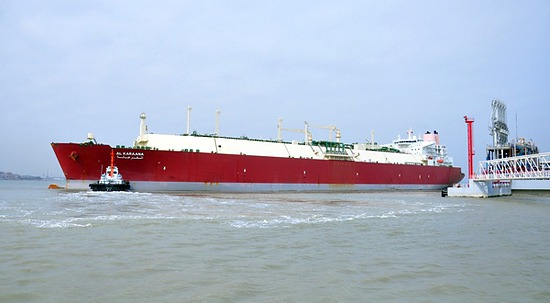Cargoship: (45, 121, 464, 190)
otherboat: (81, 164, 131, 193)
